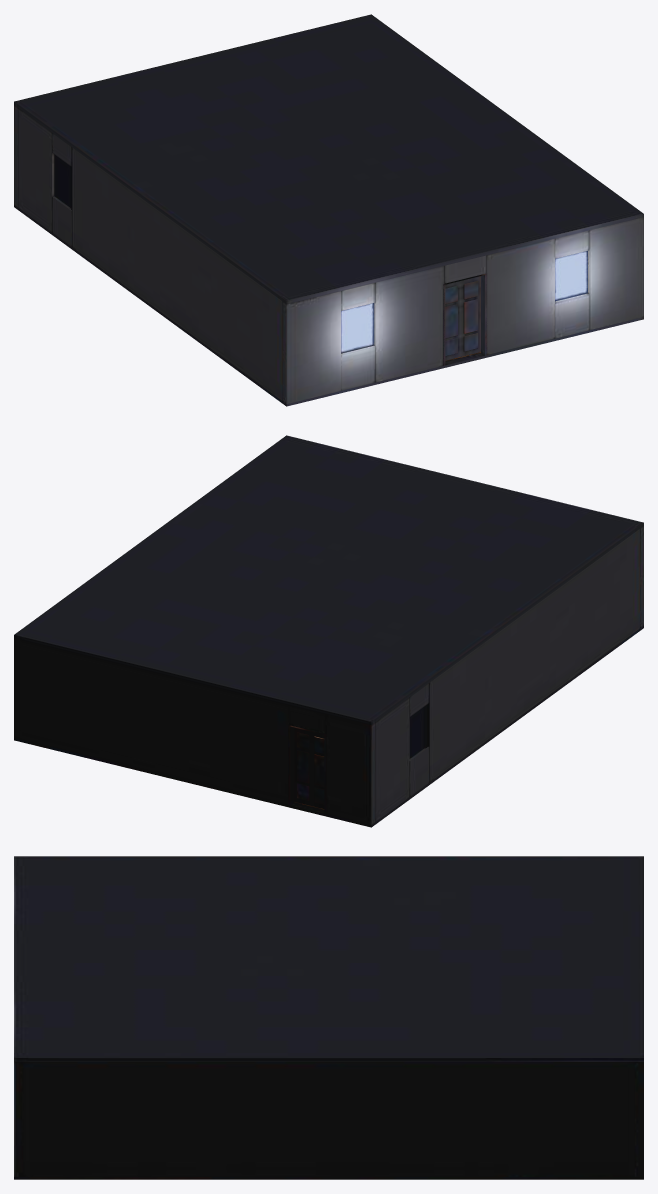
File: room.gltf
The picture shows the model from 3 angles, top to bottom: view 1: azimuth 30°, elevation 25°; view 2: azimuth 150°, elevation 25°; view 3: azimuth 270°, elevation 25°; orthographic projection. The views are drawn at different scales.
Visible parts, largest first — view 1: MESH_ceiling, MESH_plaster, MESH_winglass, MESH_darkwood, MESH_beams, MESH_frame; view 2: MESH_ceiling, MESH_plaster, MESH_darkwood, MESH_beams, MESH_frame, MESH_winglass; view 3: MESH_ceiling, MESH_plaster, MESH_beams.
Part boxes in pixels (x1,y1,x2,y2): MESH_ceiling: (14, 14, 643, 304); MESH_plaster: (14, 105, 643, 403); MESH_winglass: (54, 154, 587, 353); MESH_darkwood: (445, 276, 480, 360); MESH_beams: (14, 205, 643, 406); MESH_frame: (443, 273, 487, 365); MESH_ceiling: (14, 435, 643, 725); MESH_plaster: (14, 526, 643, 824); MESH_darkwood: (294, 727, 324, 808); MESH_beams: (14, 626, 643, 827); MESH_frame: (288, 725, 326, 813); MESH_winglass: (409, 705, 426, 758); MESH_ceiling: (14, 856, 643, 1061); MESH_plaster: (14, 1061, 643, 1176); MESH_beams: (14, 1177, 643, 1179).
Size of what is drawn, in the model's own units: 9.36 by 2.92 by 12.36.
30 materials, 30 textured.
